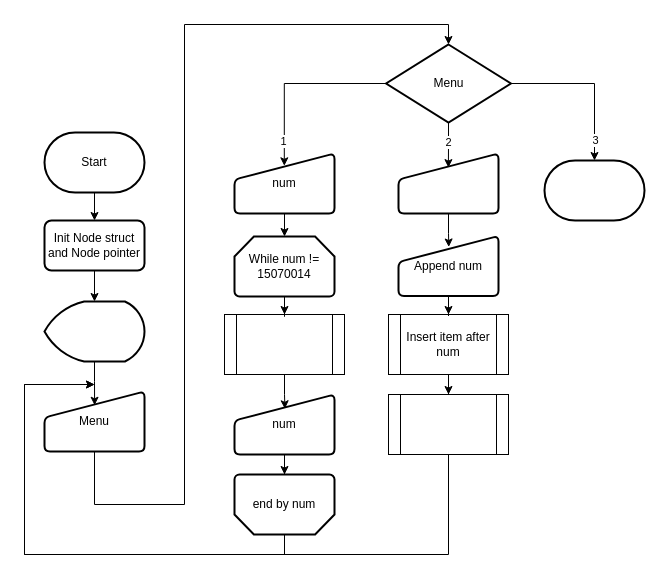
Image size: 663x580. Some labels were removed from this diagram. The shapes that lost their labels are listed below. From the top down, each one's box as (x1, y1, x2, y2) in pixels, then its label:
(397, 152, 499, 214): Filter num
(543, 159, 645, 221): End
(43, 300, 145, 362): Show menu options
(224, 314, 344, 374): Append to list
(388, 394, 508, 454): Print list
